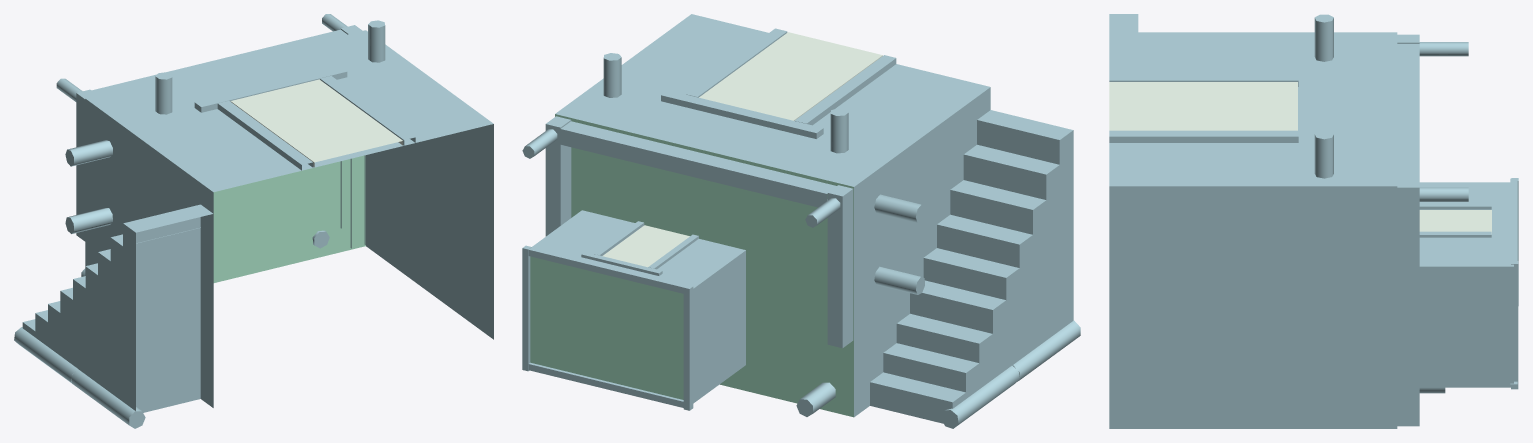
3 views of the same model, side by side, from view 1: azimuth 30°, elevation 25°; view 2: azimuth 150°, elevation 25°; view 3: azimuth 270°, elevation 25° (orthographic). The views are drawn at different scales.
Visible parts, largest first — view 1: Object11; view 2: Object11; view 3: Object11.
Part boxes in pixels (left/top/right/bottom): Object11: left=14, top=14, right=493, bottom=428; Object11: left=522, top=14, right=1080, bottom=428; Object11: left=1109, top=14, right=1518, bottom=428.
Bounding box in the file's own units: 48600 × 32118 × 41966.
